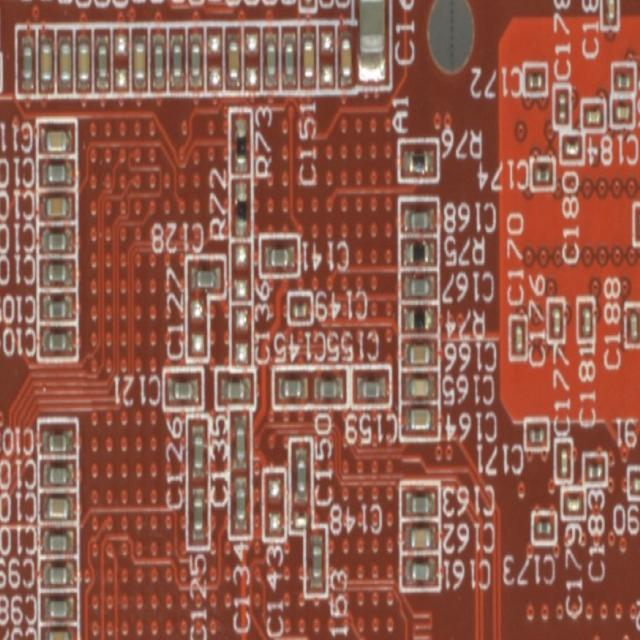capacitor: (355, 0, 386, 82), (274, 371, 309, 403), (218, 373, 251, 404), (310, 373, 344, 403), (231, 410, 247, 472), (188, 262, 222, 291), (232, 472, 248, 532), (402, 521, 435, 550), (402, 405, 436, 433), (293, 444, 308, 506), (41, 426, 74, 454), (41, 460, 74, 488), (41, 560, 74, 588), (41, 593, 74, 621), (166, 375, 199, 403), (402, 203, 435, 231), (401, 272, 434, 300), (402, 371, 435, 399), (402, 557, 435, 585), (38, 192, 72, 219), (403, 489, 437, 516), (190, 421, 206, 478), (189, 482, 204, 542), (40, 259, 72, 287), (40, 293, 72, 321), (40, 159, 73, 186), (40, 227, 73, 254), (40, 326, 73, 353), (40, 494, 73, 521), (41, 527, 74, 554), (353, 373, 386, 400), (402, 338, 435, 365), (19, 31, 34, 90), (38, 31, 53, 90), (57, 31, 72, 90), (94, 30, 109, 89), (132, 30, 147, 89), (169, 30, 184, 89), (39, 125, 73, 151), (262, 242, 296, 268), (75, 33, 90, 91), (188, 29, 203, 87), (225, 29, 240, 87), (308, 530, 322, 592), (151, 30, 165, 89), (281, 27, 295, 86), (263, 29, 277, 87), (300, 29, 314, 87), (338, 29, 352, 87), (42, 627, 74, 640), (534, 515, 552, 538), (549, 305, 562, 336), (584, 458, 604, 478), (525, 70, 543, 92), (290, 298, 308, 320), (564, 492, 582, 514), (579, 304, 591, 336), (627, 310, 639, 342), (614, 68, 630, 91), (527, 425, 545, 444), (512, 322, 523, 353), (558, 444, 568, 478), (614, 102, 631, 121), (556, 91, 566, 121), (533, 165, 550, 182), (562, 138, 578, 156), (584, 107, 600, 124), (293, 511, 307, 530), (603, 0, 614, 23), (629, 474, 640, 492), (302, 0, 313, 4)
pads: (265, 473, 282, 535), (233, 305, 250, 365), (243, 26, 259, 89), (189, 294, 205, 354), (319, 25, 334, 87), (114, 28, 128, 88), (206, 28, 220, 88), (233, 241, 247, 301)
resistor: (401, 147, 434, 176), (401, 238, 434, 264), (232, 114, 246, 174), (233, 178, 248, 234), (401, 306, 434, 331), (635, 210, 640, 241)
